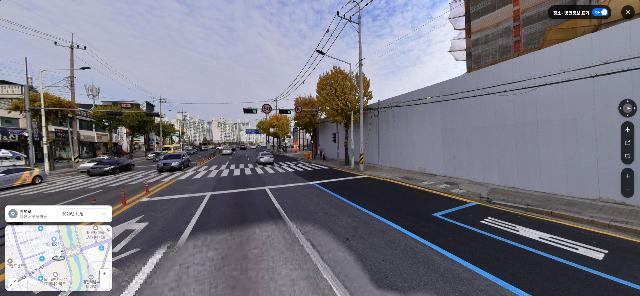ginkgo: (316, 65, 373, 165), (294, 96, 321, 159), (255, 118, 276, 149), (268, 116, 284, 151), (278, 115, 292, 152)
other: (6, 91, 73, 164), (93, 102, 135, 156), (115, 112, 154, 159), (160, 124, 176, 145)
